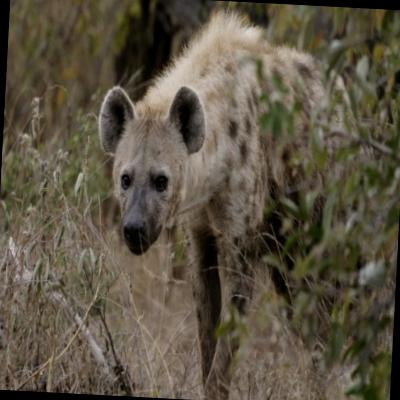hyenas: (66, 0, 400, 400)
